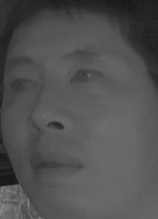eye: (67, 63, 106, 89), (9, 73, 40, 95)
mouth: (26, 145, 84, 184)
